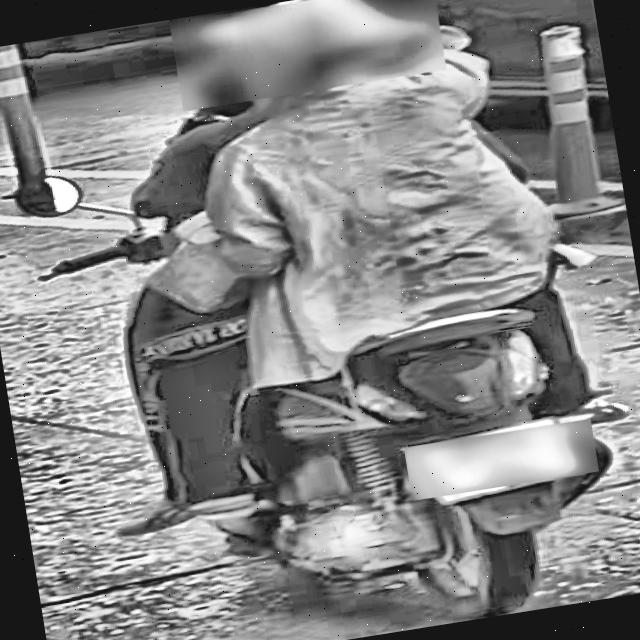motorcycle: (5, 91, 640, 640)
